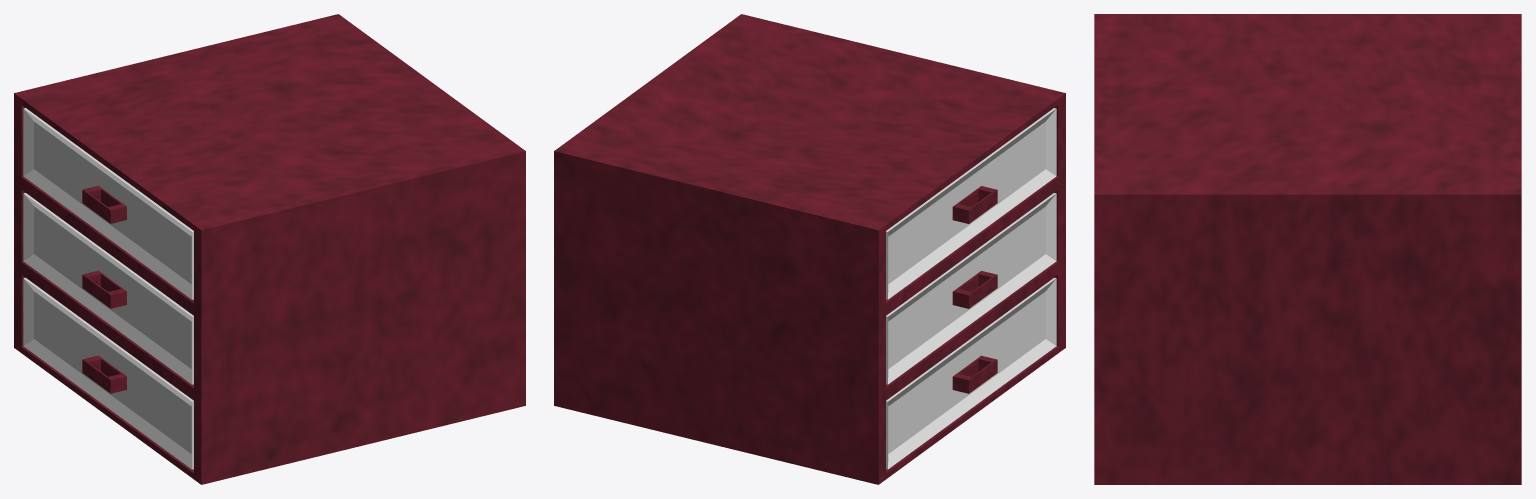
File: nightStand1.glb
3 views of the same model, side by side, from view 1: azimuth 30°, elevation 25°; view 2: azimuth 150°, elevation 25°; view 3: azimuth 270°, elevation 25° (orthographic). The views are drawn at different scales.
Visible parts, largest first — view 1: NSCore, NSShelf1, NSShelf2, NSShelf3; view 2: NSCore, NSShelf1, NSShelf2, NSShelf3; view 3: NSCore.
Boxes of the visible parts, x1,y1,x2,y2 form: NSCore: [14, 14, 525, 484]; NSShelf1: [23, 277, 193, 469]; NSShelf2: [23, 193, 193, 384]; NSShelf3: [23, 108, 193, 299]; NSCore: [554, 14, 1065, 484]; NSShelf1: [886, 277, 1056, 469]; NSShelf2: [886, 193, 1056, 384]; NSShelf3: [886, 108, 1056, 299]; NSCore: [1094, 14, 1521, 484].
Bounding box in the file's own units: 2.07 × 1.5 × 2.
2 materials, 1 textured.
